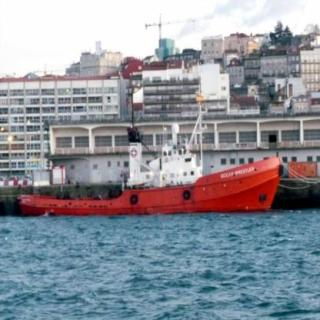Tug Boat: (17, 74, 295, 202)
